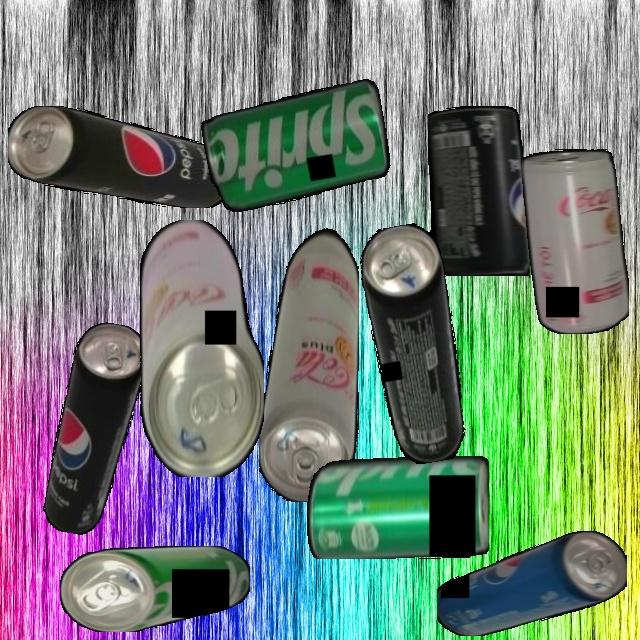debris: (139, 219, 264, 477), (354, 220, 477, 468), (258, 222, 359, 502), (198, 78, 395, 215), (40, 318, 151, 540), (8, 105, 232, 208), (436, 531, 627, 636), (521, 149, 629, 334), (306, 455, 489, 559), (427, 106, 529, 276), (60, 545, 250, 632)
